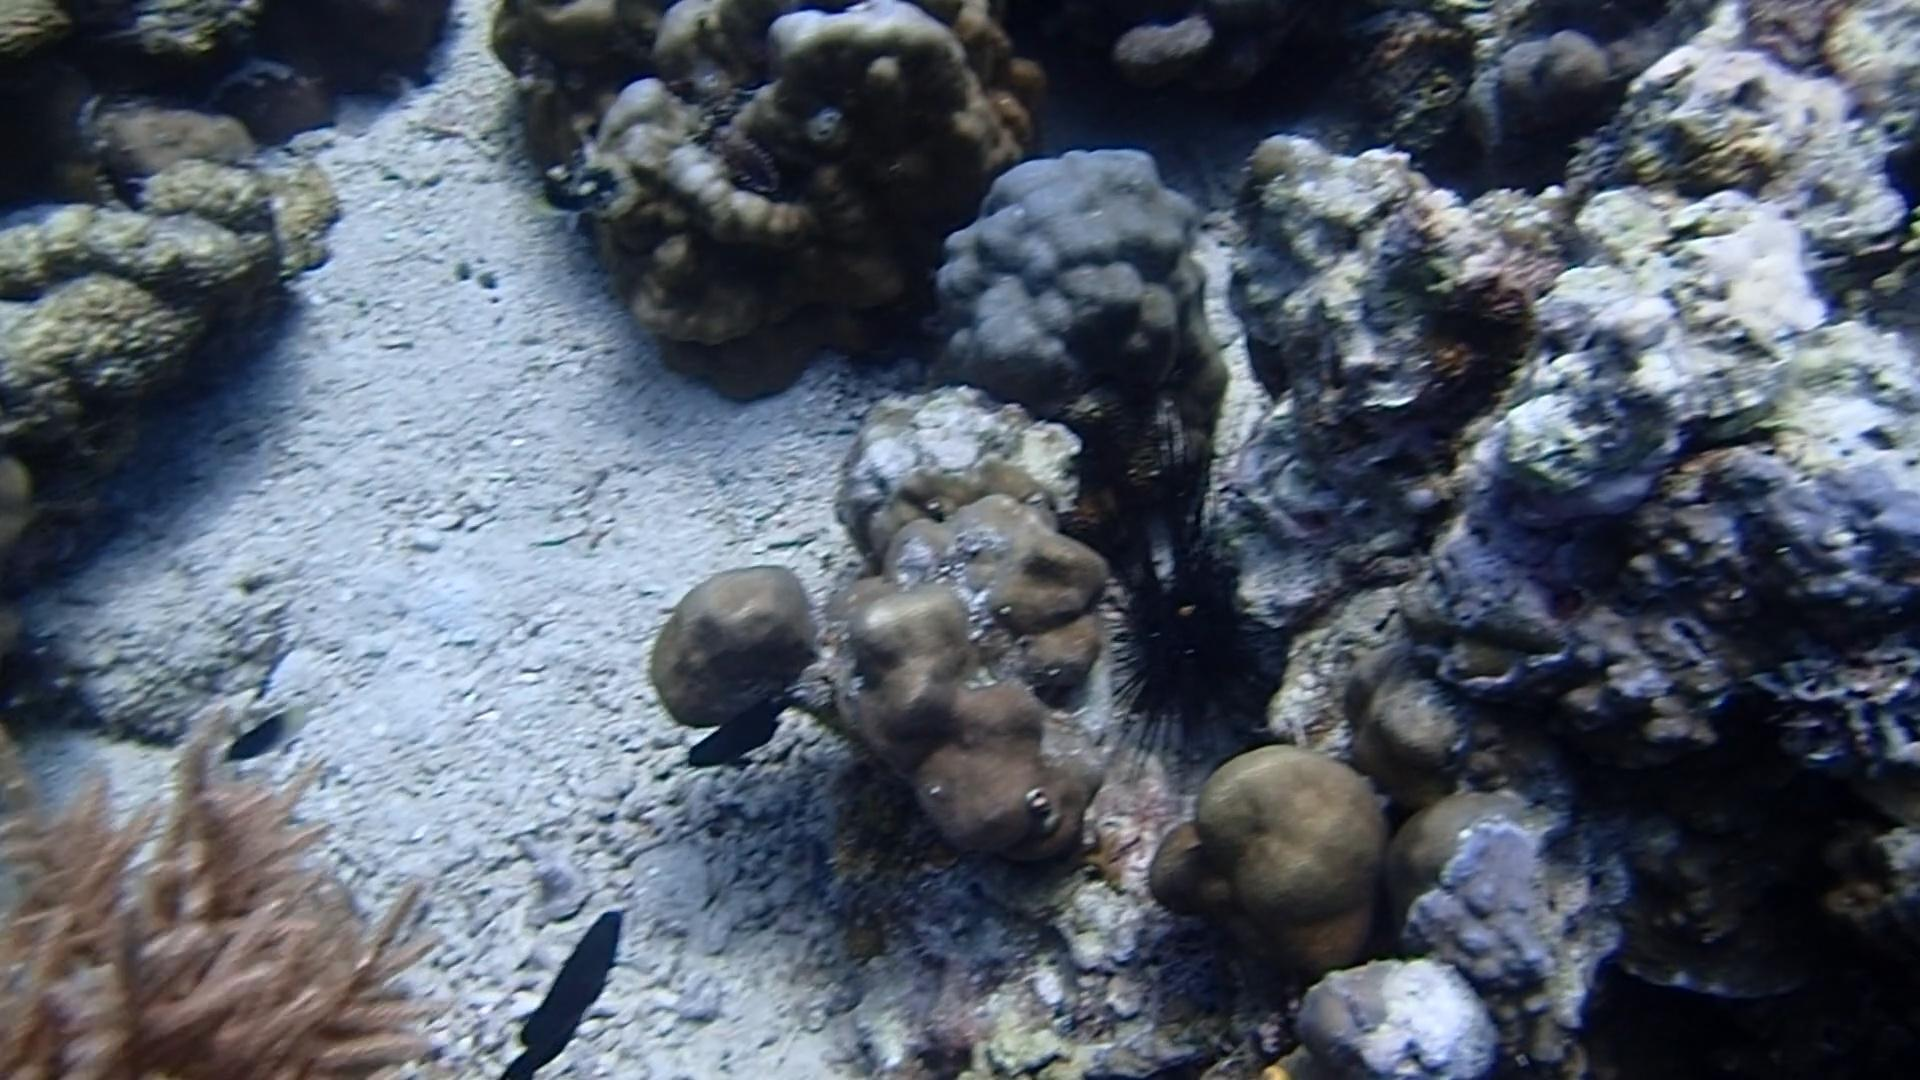Dark Fish: (481, 895, 647, 1080), (676, 692, 781, 781)
Yellow Tail: (512, 169, 603, 229), (222, 707, 314, 765)
